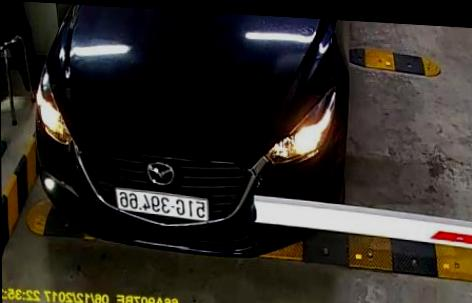License_Plate: (114, 182, 213, 228)
